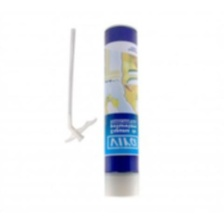aerosol_cans: (98, 20, 141, 201)
